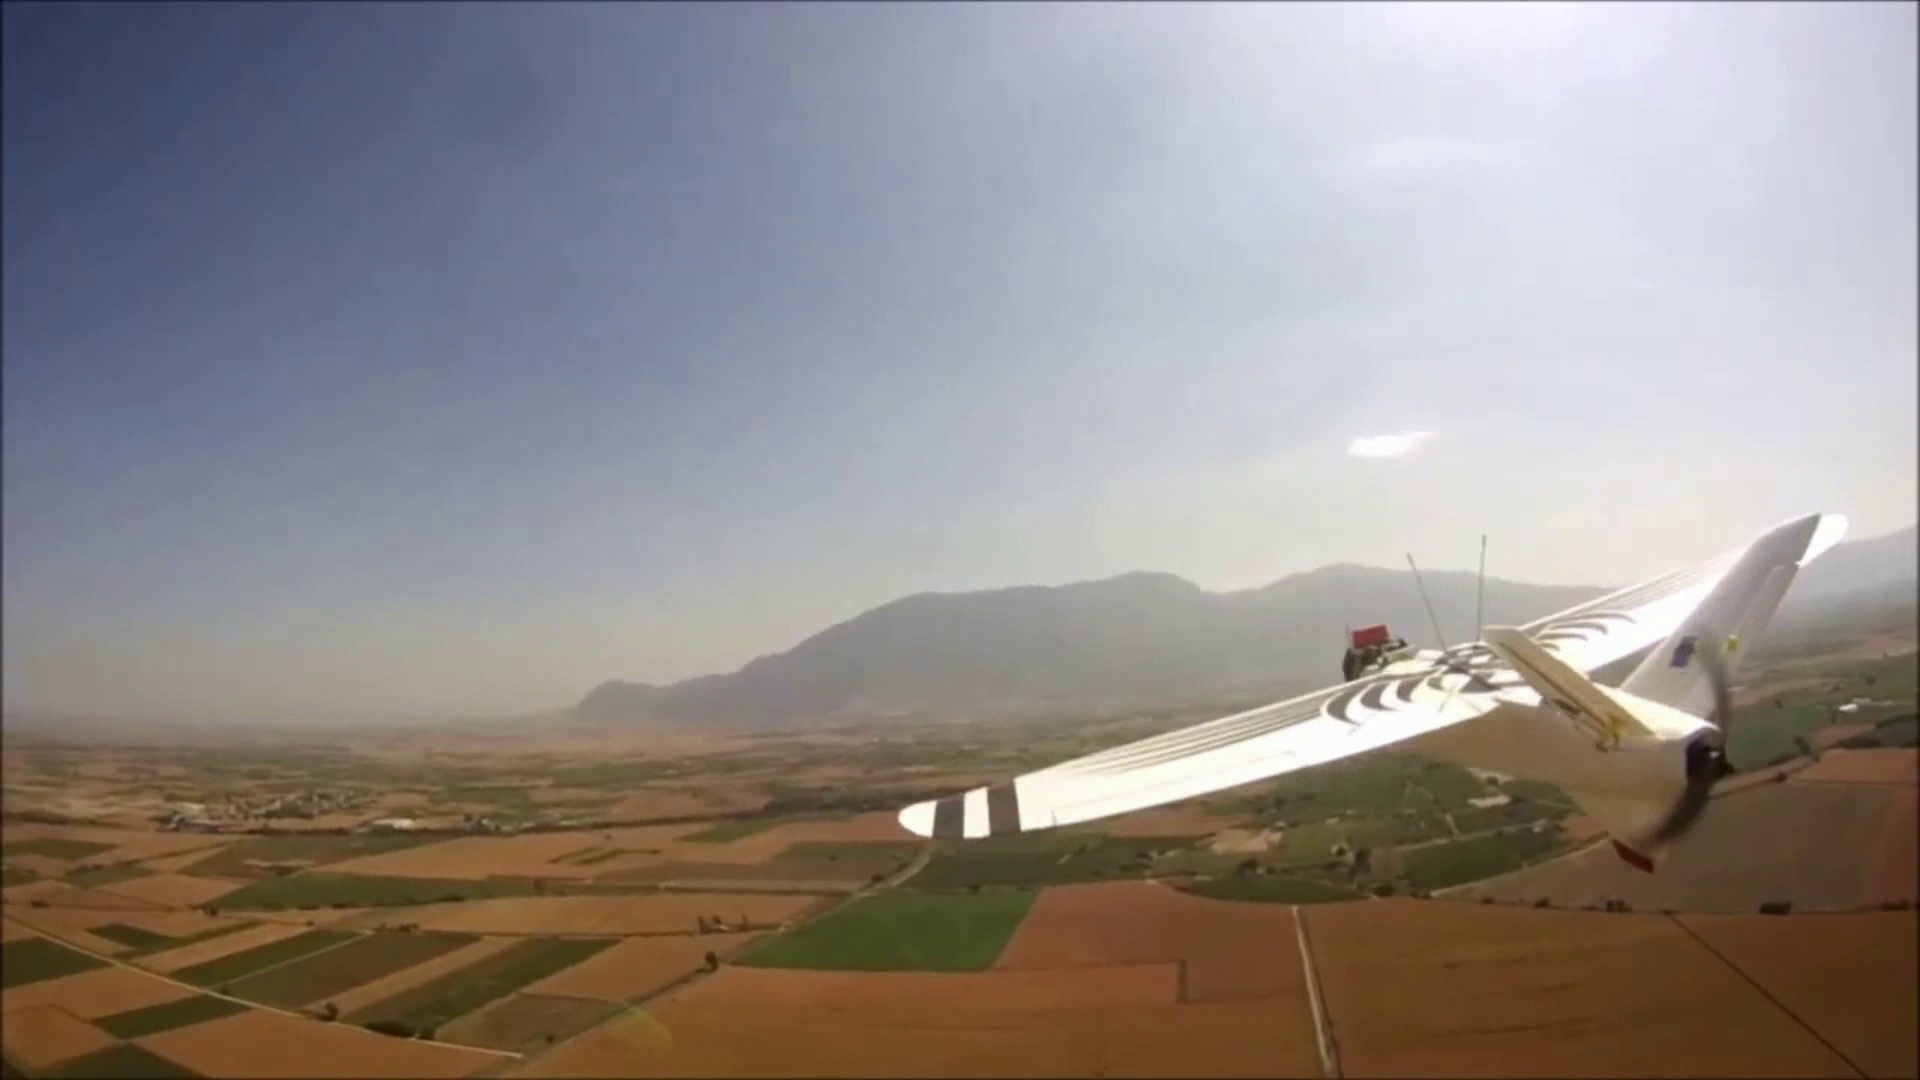airplane: (24, 509, 1908, 947)
